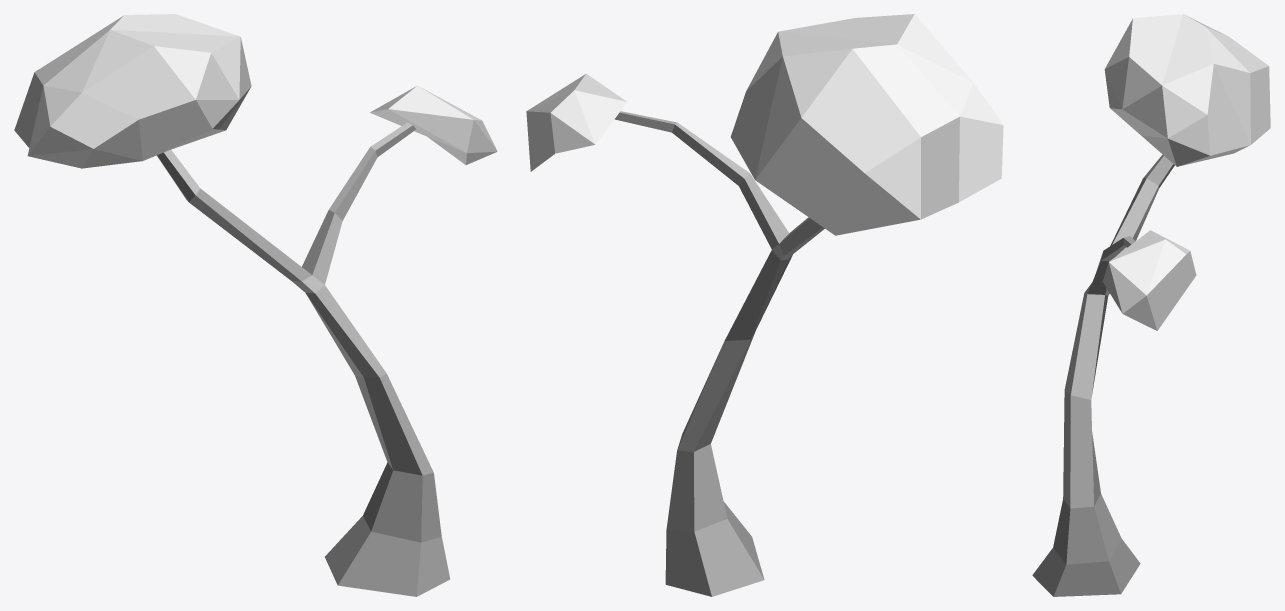
Rendered from dprop_tree1.fbx.
The picture shows the model from 3 angles, left to right: view 1: azimuth 30°, elevation 25°; view 2: azimuth 150°, elevation 25°; view 3: azimuth 270°, elevation 25°; orthographic projection. The views are drawn at different scales.
Visible parts, largest first — view 1: TreeA01_; view 2: TreeA01_; view 3: TreeA01_.
Part boxes in pixels (x1,y1,x2,y2): TreeA01_: [14, 14, 497, 596]; TreeA01_: [526, 14, 1003, 596]; TreeA01_: [1032, 14, 1270, 596].
Bounding box in the file's own units: 134 × 74.24 × 165.
